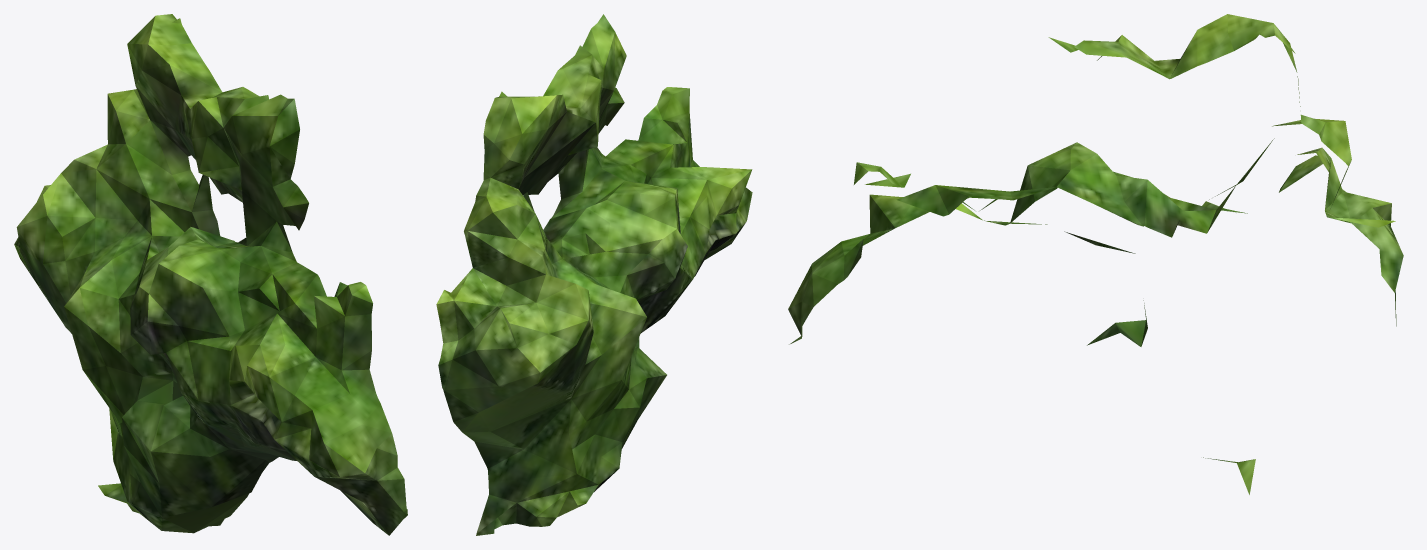
The picture shows the model from 3 angles, left to right: view 1: azimuth 30°, elevation 25°; view 2: azimuth 150°, elevation 25°; view 3: azimuth 270°, elevation 25°; orthographic projection. The views are drawn at different scales.
Bounding box in the file's own units: 4.15 × 13.66 × 15.48.
Materials: 1 (1 with a texture image).
